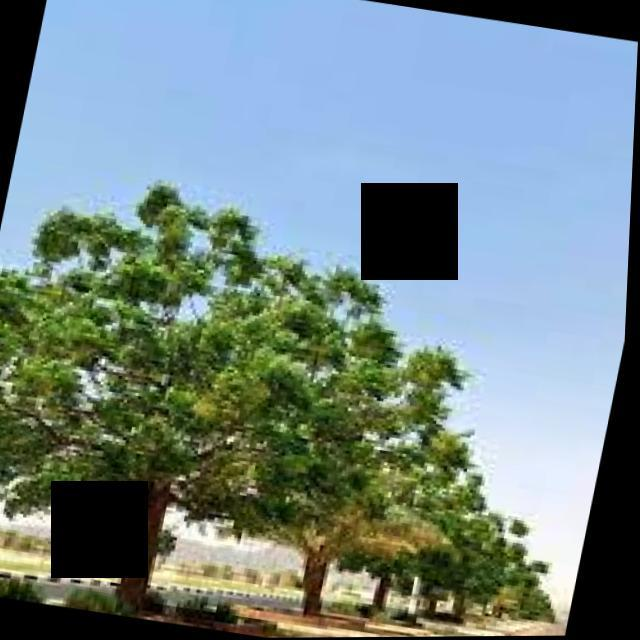Tree: (1, 168, 367, 637), (205, 311, 475, 632), (326, 413, 481, 620)
